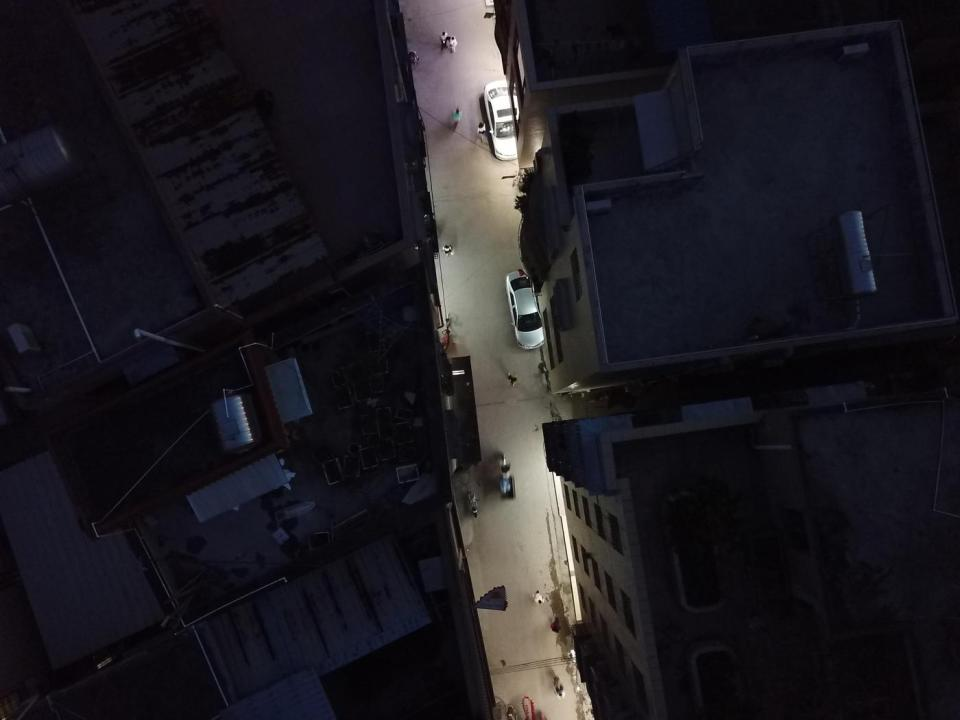car: (483, 80, 531, 161), (506, 267, 548, 350)
